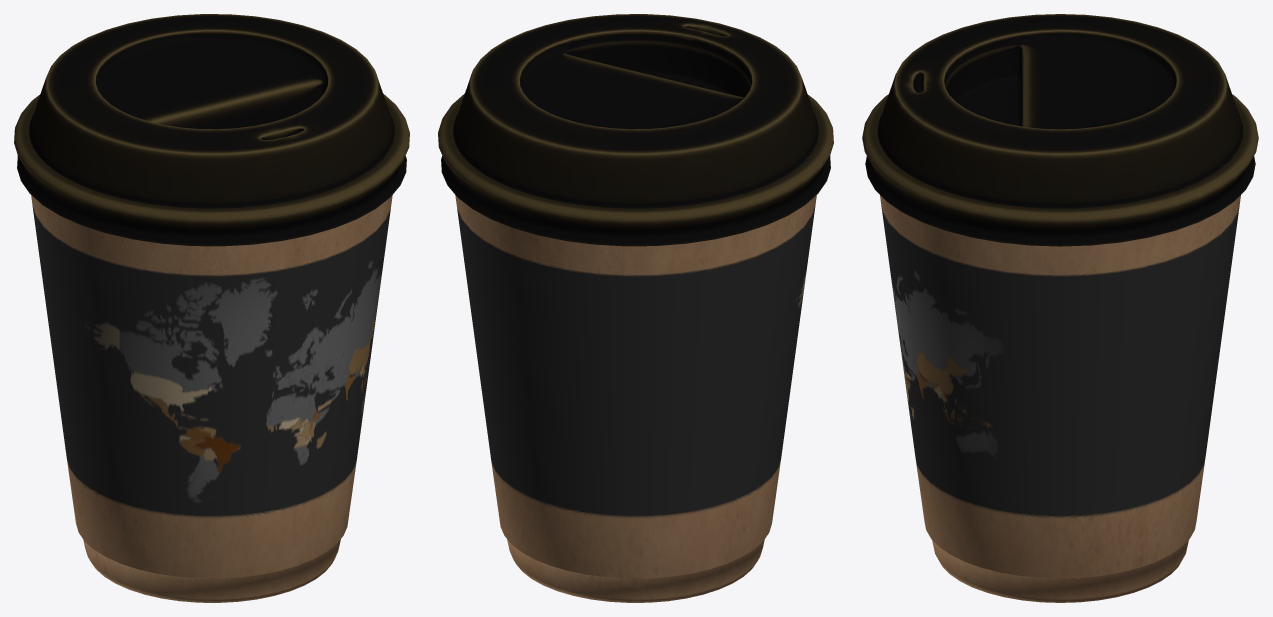
The model's file is Cup.fbx.
3 views of the same model, side by side, from view 1: azimuth 30°, elevation 25°; view 2: azimuth 150°, elevation 25°; view 3: azimuth 270°, elevation 25° (orthographic).
Parts seen in each view (by area): view 1: Cup1; view 2: Cup1; view 3: Cup1.
Part boxes in pixels (x1,y1,x2,y2): Cup1: (14, 14, 409, 602); Cup1: (438, 14, 833, 602); Cup1: (862, 14, 1258, 602).
Size of the model in its own units: 12.36 by 16.28 by 12.36.
Materials: 1 (1 with a texture image).
